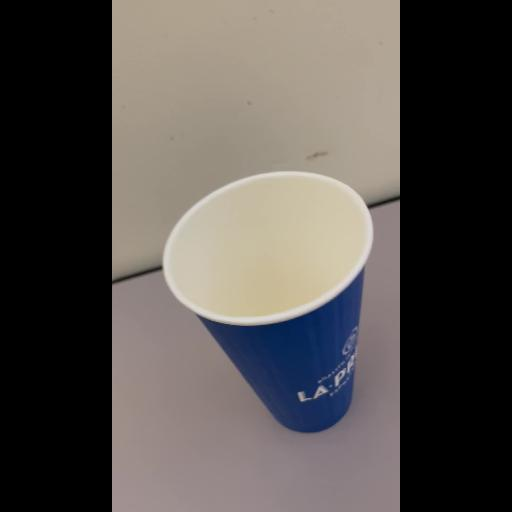lp_paper_cup: (164, 172, 372, 434)
